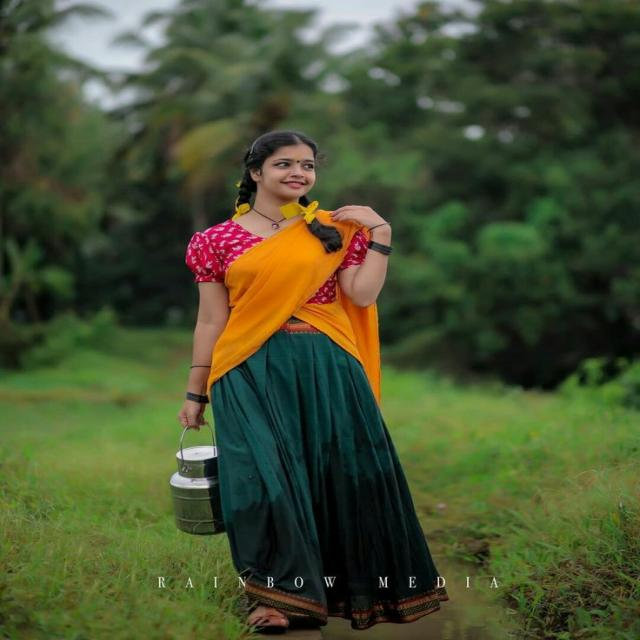female-dress: (172, 206, 446, 624)
